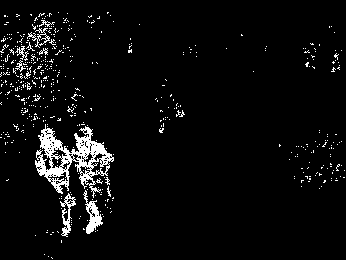person: (74, 125, 119, 234), (37, 127, 76, 242)
